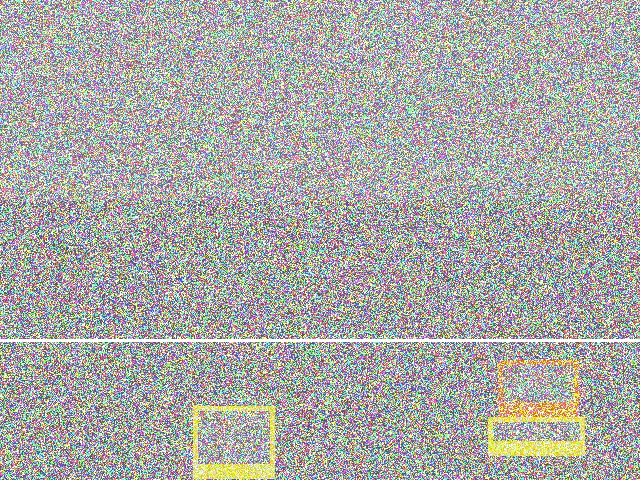car: (462, 170, 561, 261)
motorcycle: (96, 119, 201, 215)
truck: (153, 372, 262, 480)
